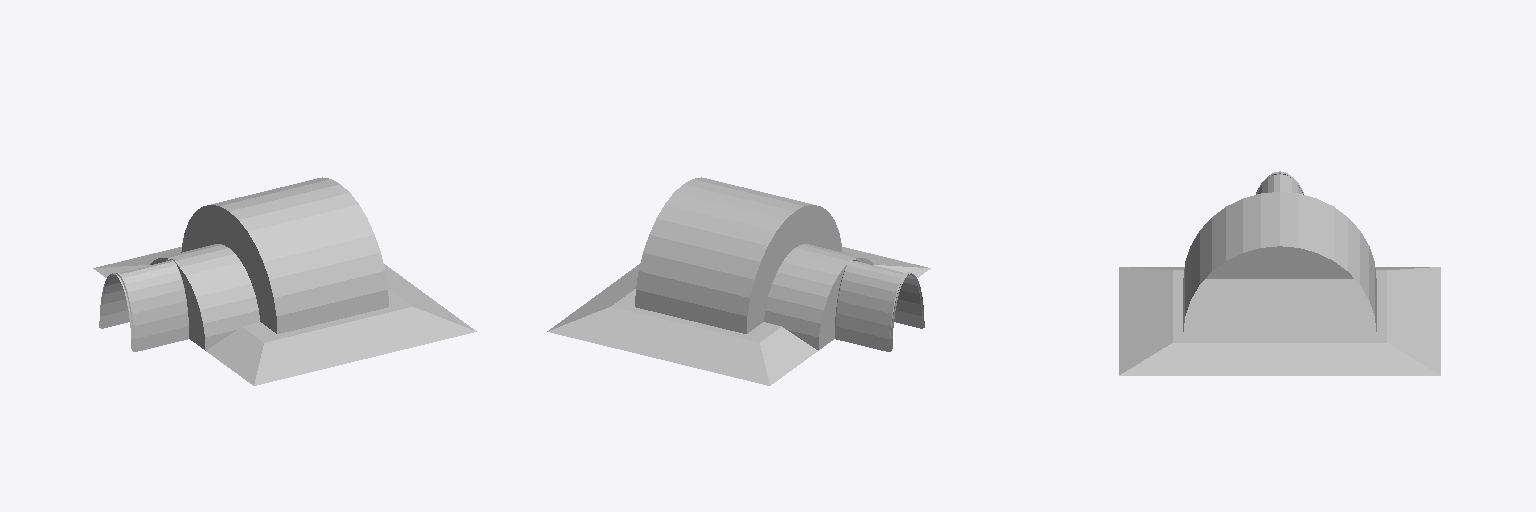
Rendered from hangar.obj.
3 renders of one model, left to right at view 1: azimuth 30°, elevation 25°; view 2: azimuth 150°, elevation 25°; view 3: azimuth 270°, elevation 25°, orthographic.
Visible parts, largest first — view 1: Cube_Cube.001; view 2: Cube_Cube.001; view 3: Cube_Cube.001.
Part boxes in pixels (left/top/right/bottom): Cube_Cube.001: left=93, top=177, right=476, bottom=385; Cube_Cube.001: left=547, top=177, right=930, bottom=385; Cube_Cube.001: left=1119, top=171, right=1440, bottom=375.
Bounding box in the file's own units: 10.07 × 3.5 × 10.